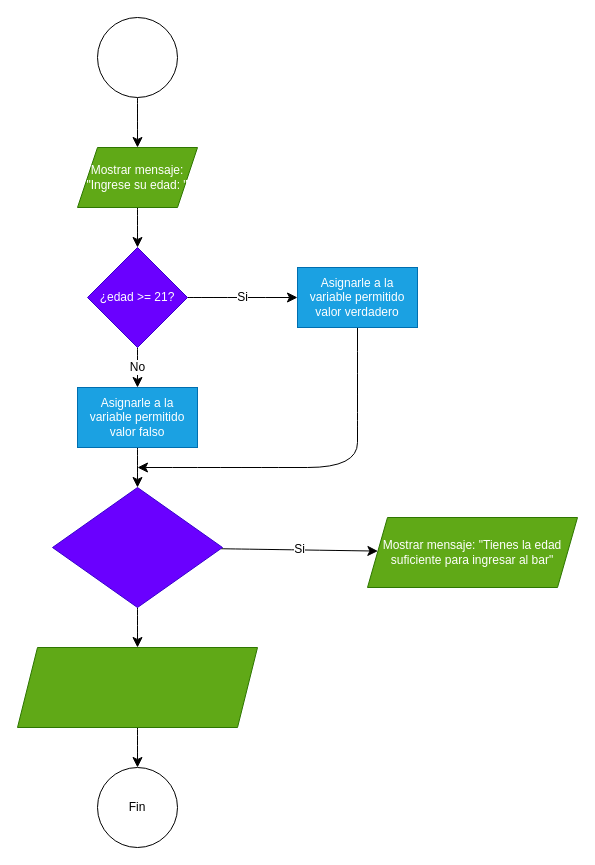
This 595x865 diagram has some shape labels left out. Each missing label, with the centre of its shape:
Inicio: the point at 137,57
Mostrar mensaje: "No tienes la edad suficiente para ingresar al bar": the point at 137,687
¿Está permitido el ingreso según la edad?: the point at 137,547
